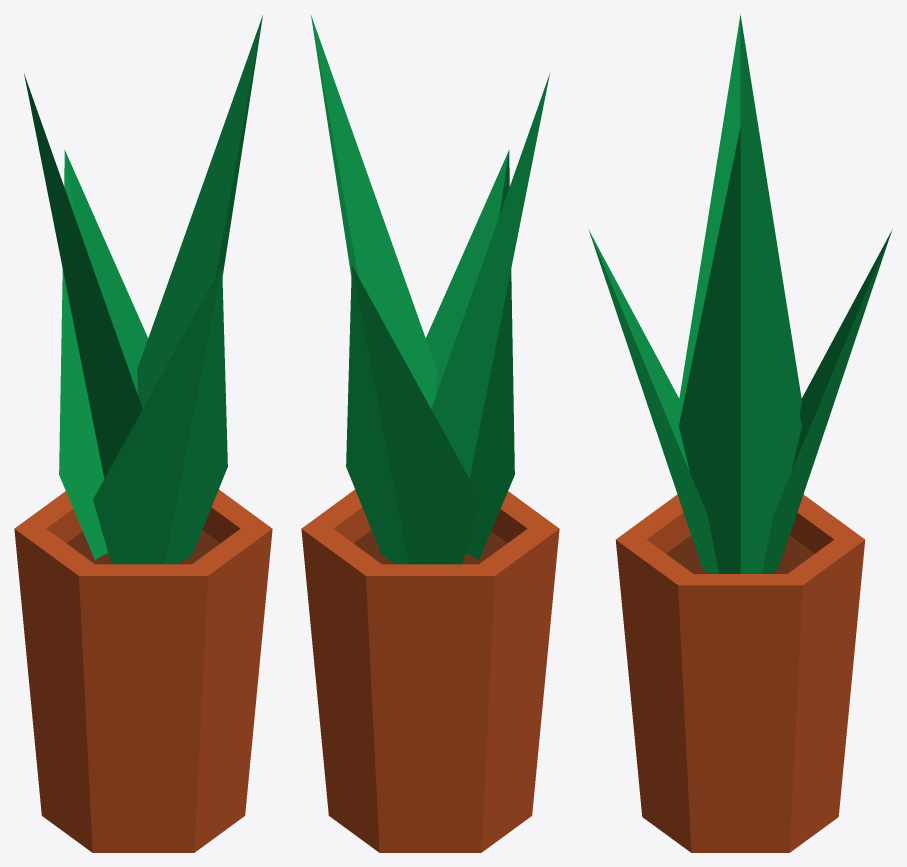
File: Kenney_PottedPlant.obj
3 renders of one model, left to right at view 1: azimuth 30°, elevation 25°; view 2: azimuth 150°, elevation 25°; view 3: azimuth 270°, elevation 25°, orthographic. The views are drawn at different scales.
Parts seen in each view (by area): view 1: part0, part4, part1; view 2: part0, part4, part1; view 3: part0, part4, part1.
Boxes of the visible parts, box(x1,y1,x2,y2) form: part0: box(14, 489, 272, 852); part4: box(24, 15, 262, 564); part1: box(66, 530, 220, 564); part0: box(301, 489, 559, 852); part4: box(311, 15, 549, 564); part1: box(353, 530, 507, 564); part0: box(615, 494, 865, 852); part4: box(588, 14, 892, 573); part1: box(666, 535, 814, 573).
Bounding box in the file's own units: 0.2121 × 0.654 × 0.2415.
